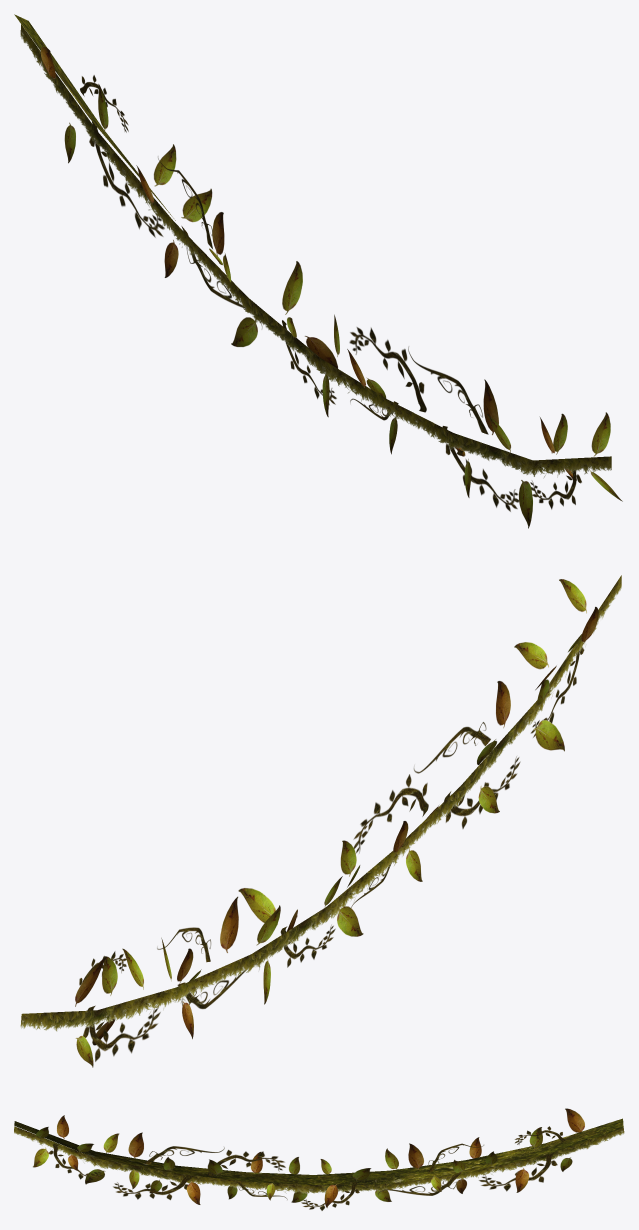
File: stklib_liana_a_main.glb
3 renders of one model, top to bottom at view 1: azimuth 30°, elevation 25°; view 2: azimuth 150°, elevation 25°; view 3: azimuth 270°, elevation 25°, orthographic. The views are drawn at different scales.
Visible parts, largest first — view 1: stklib_liana_diff_a.png__; view 2: stklib_liana_diff_a.png__; view 3: stklib_liana_diff_a.png__.
Boxes of the visible parts, x1,y1,x2,y2 form: stklib_liana_diff_a.png__: (14,14,622,528); stklib_liana_diff_a.png__: (20,575,621,1067); stklib_liana_diff_a.png__: (14,1108,624,1210).
Bounding box in the file's own units: 1.57 × 4.63 × 24.88.
1 material, 1 textured.
